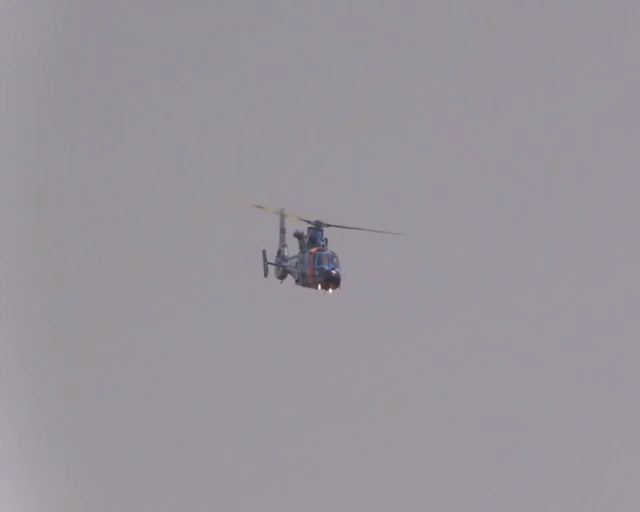HELICOPTER: (252, 202, 405, 293)
